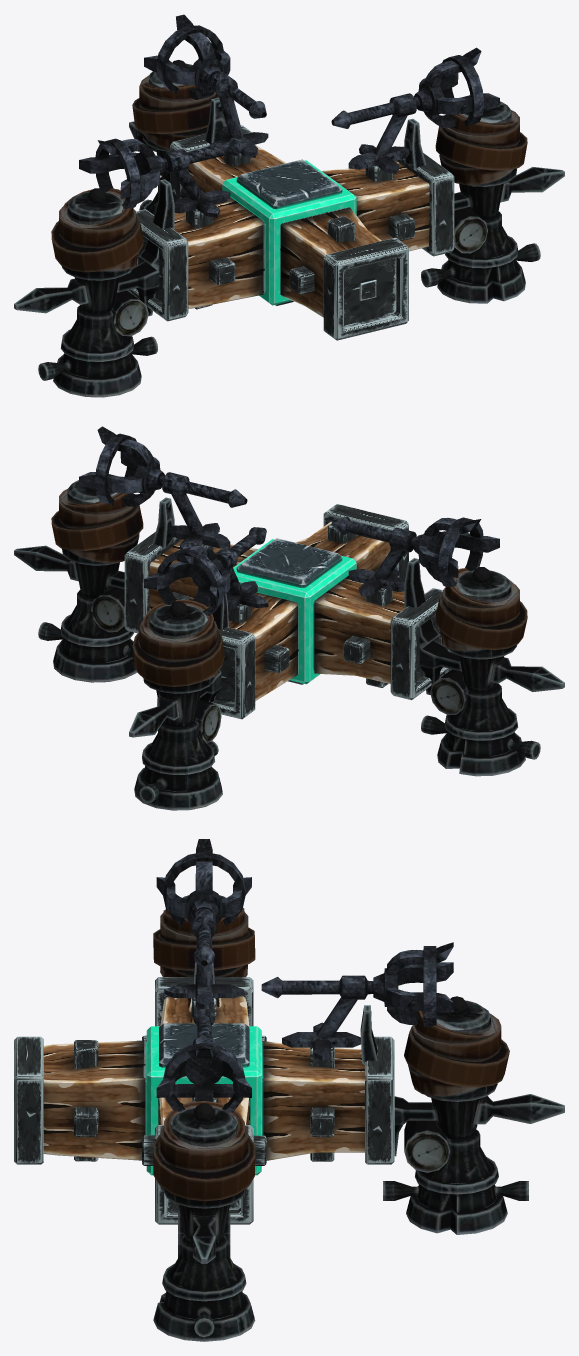
File: step_014.glb
3 views of the same model, one above another, from view 1: azimuth 30°, elevation 25°; view 2: azimuth 150°, elevation 25°; view 3: azimuth 270°, elevation 25° (orthographic). The views are drawn at different scales.
Parts seen in each view (by area): view 1: WaterCannon_928be653-e0f6-4d7b-a0d6-11e07984c832, SingleWoodenBlock_72c407a8-6651-450a-8bd4-af0f65df91eb, Torch_14bcca2c-b154-491c-9fce-81cef2020442, StartingBlock_fc748b3c-a139-43a2-b383-b3f7f1111932; view 2: WaterCannon_928be653-e0f6-4d7b-a0d6-11e07984c832, SingleWoodenBlock_72c407a8-6651-450a-8bd4-af0f65df91eb, Torch_14bcca2c-b154-491c-9fce-81cef2020442, StartingBlock_fc748b3c-a139-43a2-b383-b3f7f1111932; view 3: WaterCannon_928be653-e0f6-4d7b-a0d6-11e07984c832, SingleWoodenBlock_72c407a8-6651-450a-8bd4-af0f65df91eb, Torch_14bcca2c-b154-491c-9fce-81cef2020442, StartingBlock_fc748b3c-a139-43a2-b383-b3f7f1111932.
Boxes of the visible parts, x1,y1,x2,y2 form: WaterCannon_928be653-e0f6-4d7b-a0d6-11e07984c832: [14, 60, 564, 397]; SingleWoodenBlock_72c407a8-6651-450a-8bd4-af0f65df91eb: [127, 125, 454, 340]; Torch_14bcca2c-b154-491c-9fce-81cef2020442: [79, 14, 499, 217]; StartingBlock_fc748b3c-a139-43a2-b383-b3f7f1111932: [222, 159, 356, 305]; WaterCannon_928be653-e0f6-4d7b-a0d6-11e07984c832: [14, 480, 564, 810]; SingleWoodenBlock_72c407a8-6651-450a-8bd4-af0f65df91eb: [124, 504, 451, 719]; Torch_14bcca2c-b154-491c-9fce-81cef2020442: [79, 426, 499, 615]; StartingBlock_fc748b3c-a139-43a2-b383-b3f7f1111932: [233, 538, 356, 684]; WaterCannon_928be653-e0f6-4d7b-a0d6-11e07984c832: [153, 895, 564, 1341]; SingleWoodenBlock_72c407a8-6651-450a-8bd4-af0f65df91eb: [14, 977, 394, 1224]; Torch_14bcca2c-b154-491c-9fce-81cef2020442: [156, 839, 453, 1112]; StartingBlock_fc748b3c-a139-43a2-b383-b3f7f1111932: [145, 1023, 263, 1175].
Bounding box in the file's own units: 6.11 × 2.52 × 4.66.
Materials: 4 (4 with a texture image).
